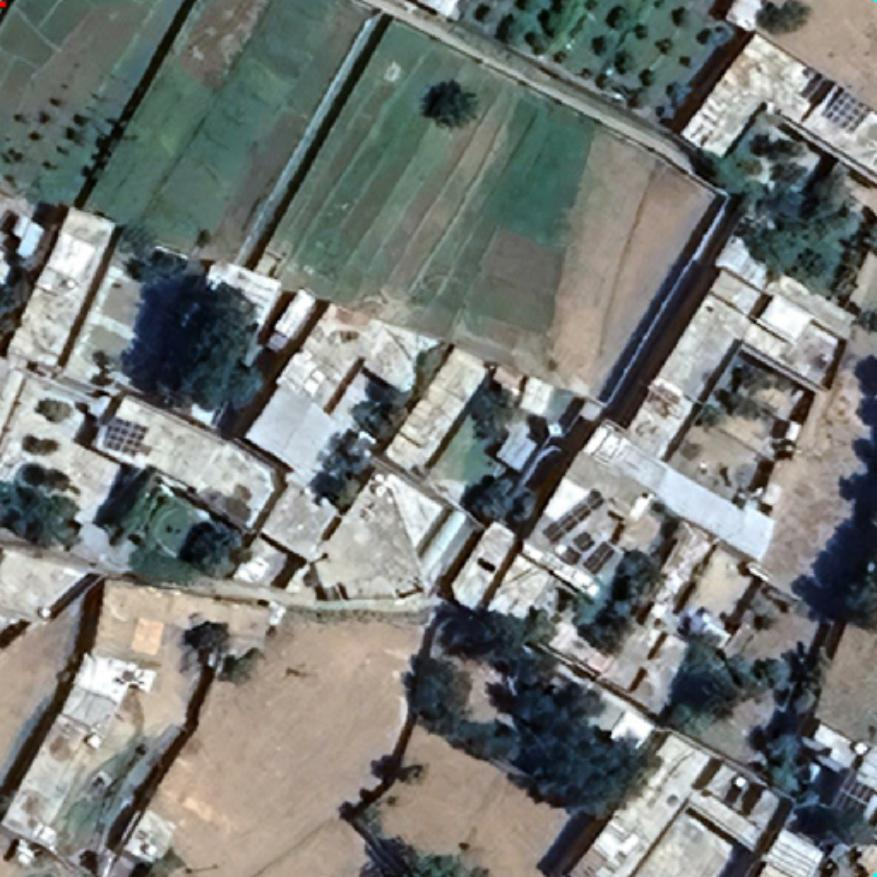Solarpanel: (541, 486, 607, 544), (821, 87, 873, 135), (832, 772, 876, 814), (103, 417, 149, 455), (582, 537, 616, 576), (555, 545, 582, 570), (571, 529, 597, 552)
